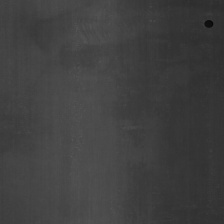punching_hole: (202, 17, 214, 31)
